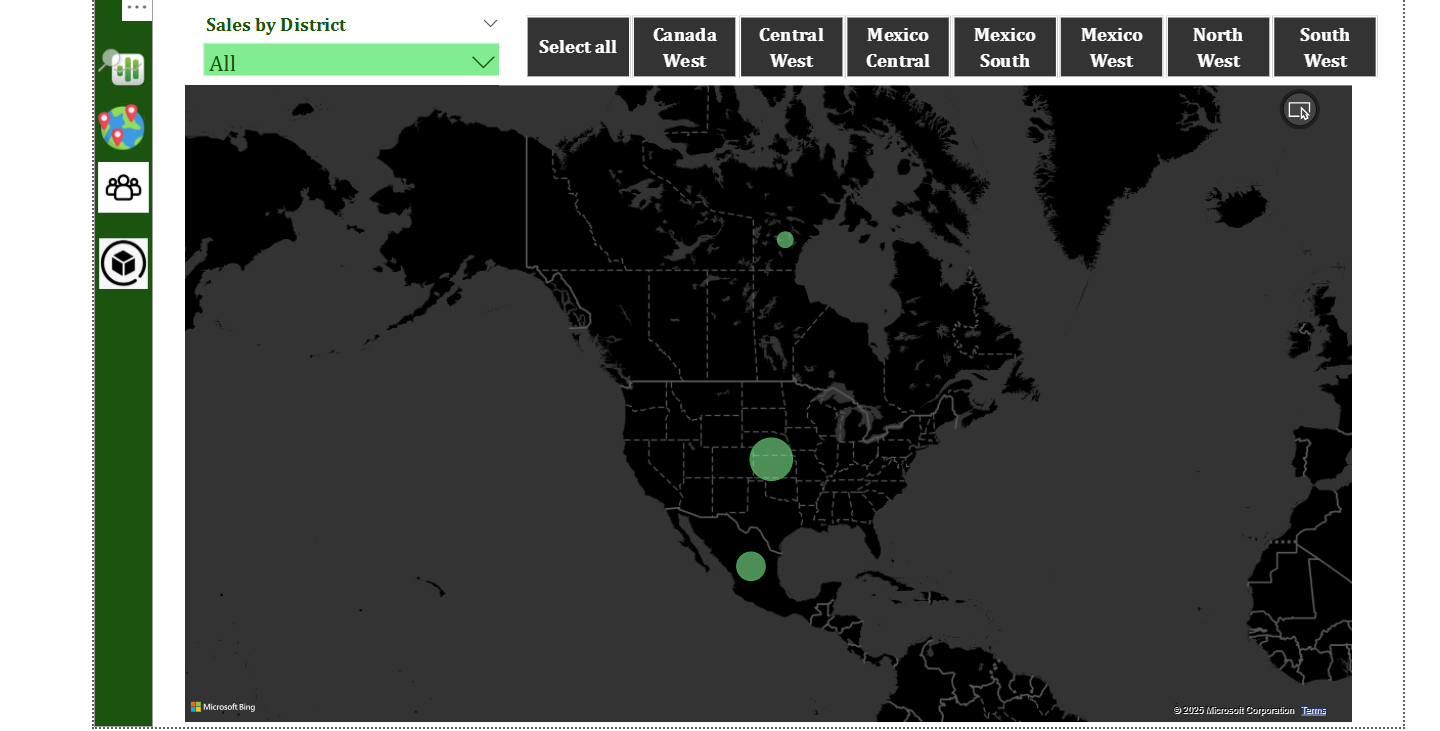

This screenshot's page, from the dashboard's own definition file:
{"tool":"powerbi","page":{"name":"Map","canvas":[1280,720],"ordinal":1},"visuals":[{"type":"shape","box":[0,0,57.5,720.2],"z":0},{"type":"map","fields":{"Category":["Customers.customer_country"],"Size":["Measure.Total orders"]},"box":[83.9,86.8,1150.6,632.9],"z":1000},{"type":"slicer","fields":{"Values":["Region.sales_district"]},"box":[96.7,17.1,311.5,65.4],"z":2000},{"type":"slicer","fields":{"Values":["Region.sales_region"]},"box":[396.8,17.1,883.2,75.4],"z":3000},{"type":"actionButton","box":[0,93.1,57.7,40.4],"z":4000},{"type":"actionButton","box":[0,39,57.7,73.6],"z":5000},{"type":"actionButton","box":[0,106.8,77.9,53.4],"z":6000},{"type":"actionButton","box":[0,155.8,57.7,73.6],"z":7000},{"type":"actionButton","box":[0,229.4,57.7,73.6],"z":8000}]}

Visuals, with their boxes in screenshot pixels (x1, y1, x2, y2):
shape: <box>90,0,148,714</box>
map - Customers.customer_country x Measure.Total orders: <box>174,79,1326,713</box>
slicer - Region.sales_district: <box>187,10,499,75</box>
slicer - Region.sales_region: <box>487,10,1372,85</box>
actionButton: <box>90,86,148,126</box>
actionButton: <box>90,32,148,105</box>
actionButton: <box>90,99,168,153</box>
actionButton: <box>90,149,148,222</box>
actionButton: <box>90,222,148,296</box>
